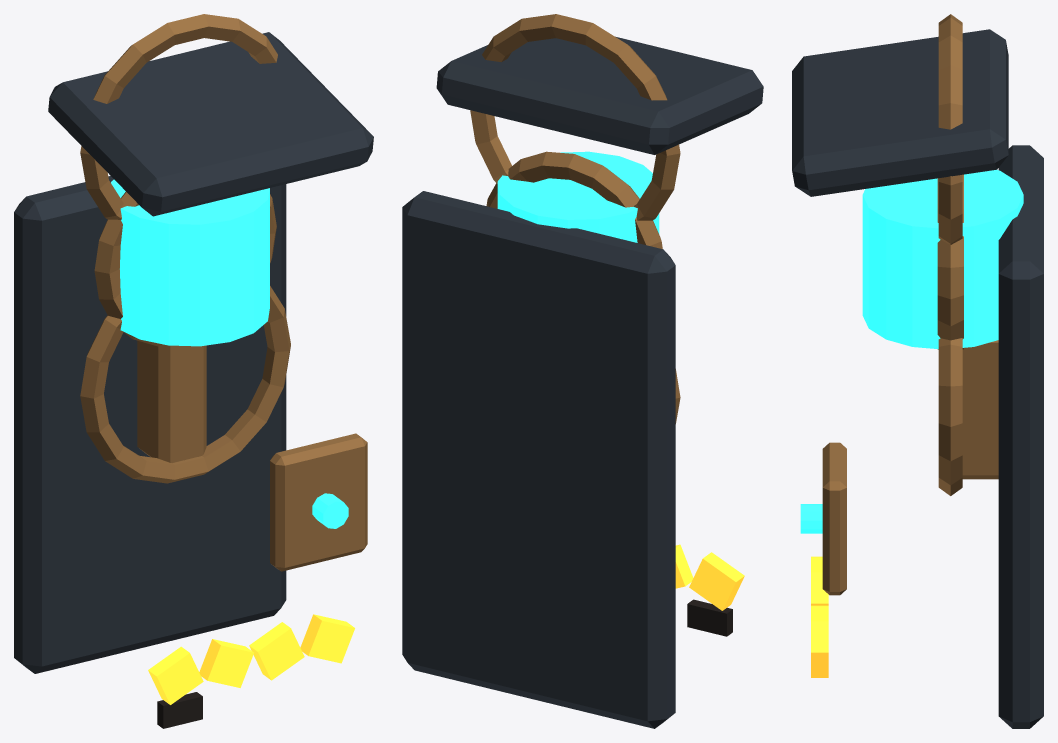
File: runtime.glb
3 views of the same model, side by side, from view 1: azimuth 30°, elevation 25°; view 2: azimuth 150°, elevation 25°; view 3: azimuth 270°, elevation 25° (orthographic).
Parts seen in each view (by area): view 1: kinetic-tide-warning-beacon-v02_steel_nocol, kinetic-tide-warning-beacon-v02_bronze_nocol, kinetic-tide-warning-beacon-v02_cyansignal_nocol, kinetic-tide-warning-beacon-v02_warningorange_nocol, kinetic-tide-warning-beacon-v02_weardark_nocol; view 2: kinetic-tide-warning-beacon-v02_steel_nocol, kinetic-tide-warning-beacon-v02_bronze_nocol, kinetic-tide-warning-beacon-v02_cyansignal_nocol, kinetic-tide-warning-beacon-v02_warningorange_nocol, kinetic-tide-warning-beacon-v02_weardark_nocol; view 3: kinetic-tide-warning-beacon-v02_steel_nocol, kinetic-tide-warning-beacon-v02_cyansignal_nocol, kinetic-tide-warning-beacon-v02_bronze_nocol, kinetic-tide-warning-beacon-v02_warningorange_nocol.
Boxes of the visible parts, x1,y1,x2,y2 form: kinetic-tide-warning-beacon-v02_steel_nocol: (14,32,373,673); kinetic-tide-warning-beacon-v02_bronze_nocol: (80,14,367,571); kinetic-tide-warning-beacon-v02_cyansignal_nocol: (111,179,348,528); kinetic-tide-warning-beacon-v02_warningorange_nocol: (148,614,354,704); kinetic-tide-warning-beacon-v02_weardark_nocol: (157,692,202,728); kinetic-tide-warning-beacon-v02_steel_nocol: (402,36,763,728); kinetic-tide-warning-beacon-v02_bronze_nocol: (470,14,680,423); kinetic-tide-warning-beacon-v02_cyansignal_nocol: (497,151,659,242); kinetic-tide-warning-beacon-v02_warningorange_nocol: (675,544,744,610); kinetic-tide-warning-beacon-v02_weardark_nocol: (687,599,732,636); kinetic-tide-warning-beacon-v02_steel_nocol: (792,29,1043,728); kinetic-tide-warning-beacon-v02_cyansignal_nocol: (800,169,1023,533); kinetic-tide-warning-beacon-v02_bronze_nocol: (822,14,998,595); kinetic-tide-warning-beacon-v02_warningorange_nocol: (811,556,828,677).
Bounding box in the file's own units: 0.864 × 2.03 × 0.72.
